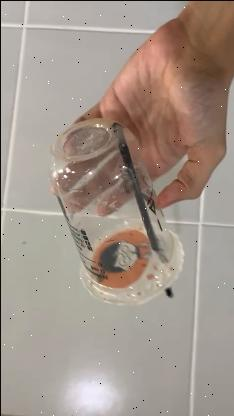Others: (45, 118, 184, 306)
